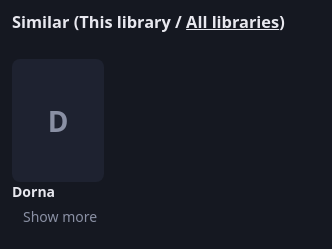
Test: Similar links each card and shows more on demand
This screenshot has width=332, height=249.
Click the button "Show more". click: (60, 218)
box: [12,202,108,233]
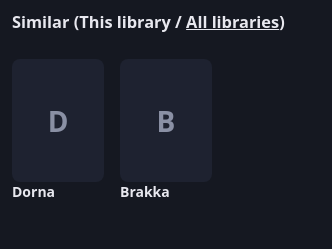
Check: the link "B Brakka" is shown, box [120,60,212,202]
Check: the button "Show more" is gone
